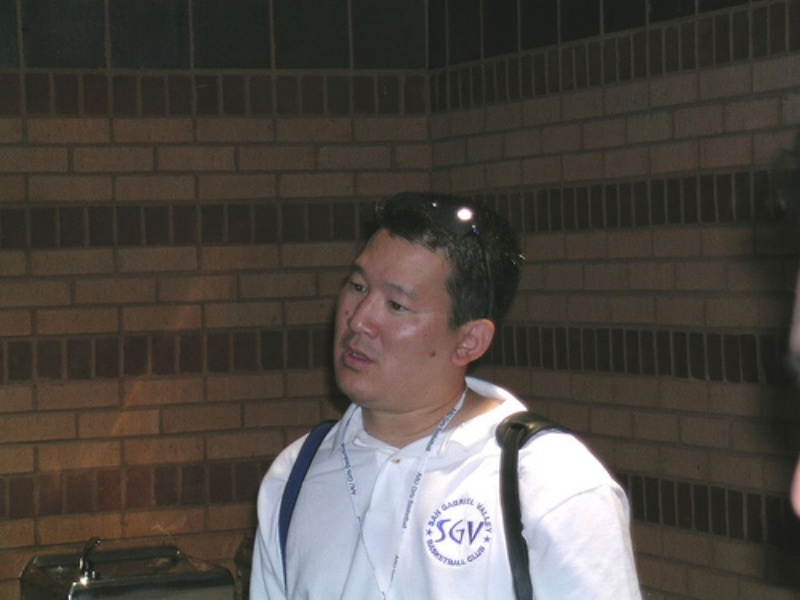person: (248, 192, 641, 600)
